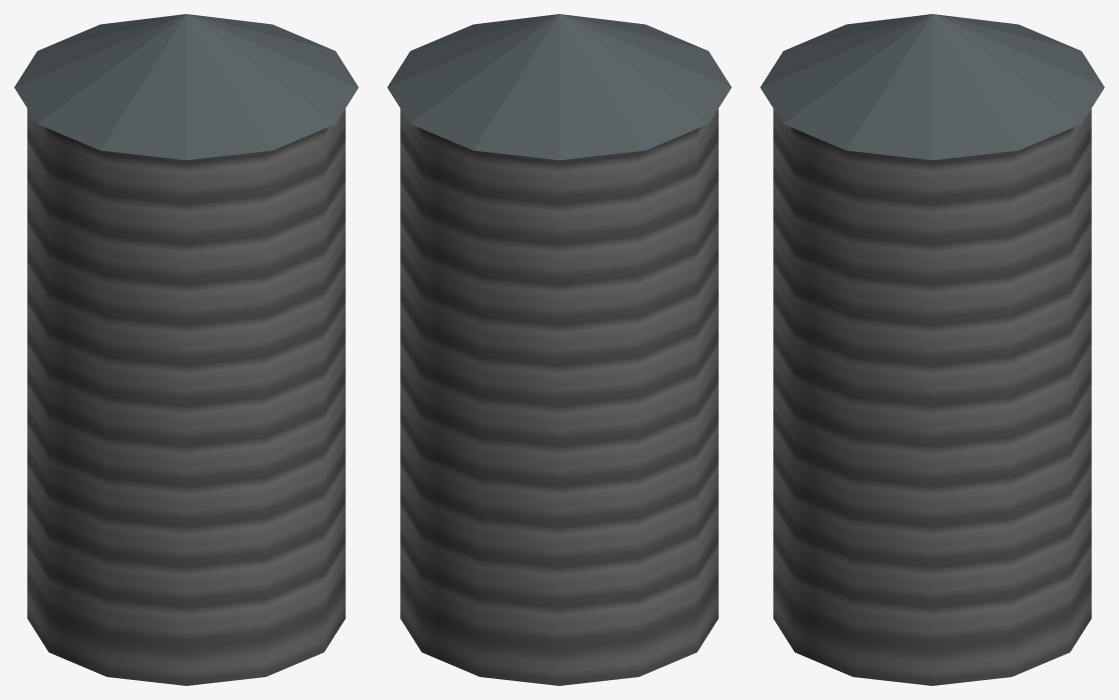
File: Silo_A2.fbx
3 views of the same model, side by side, from view 1: azimuth 30°, elevation 25°; view 2: azimuth 150°, elevation 25°; view 3: azimuth 270°, elevation 25° (orthographic).
Visible parts, largest first — view 1: Silo_A2; view 2: Silo_A2; view 3: Silo_A2.
Part boxes in pixels (<box>): Silo_A2: <box>14,14,358,685</box>; Silo_A2: <box>387,14,731,685</box>; Silo_A2: <box>760,14,1104,685</box>.
Size of the model in its own units: 287 by 556 by 287.
Materials: 1 (1 with a texture image).
